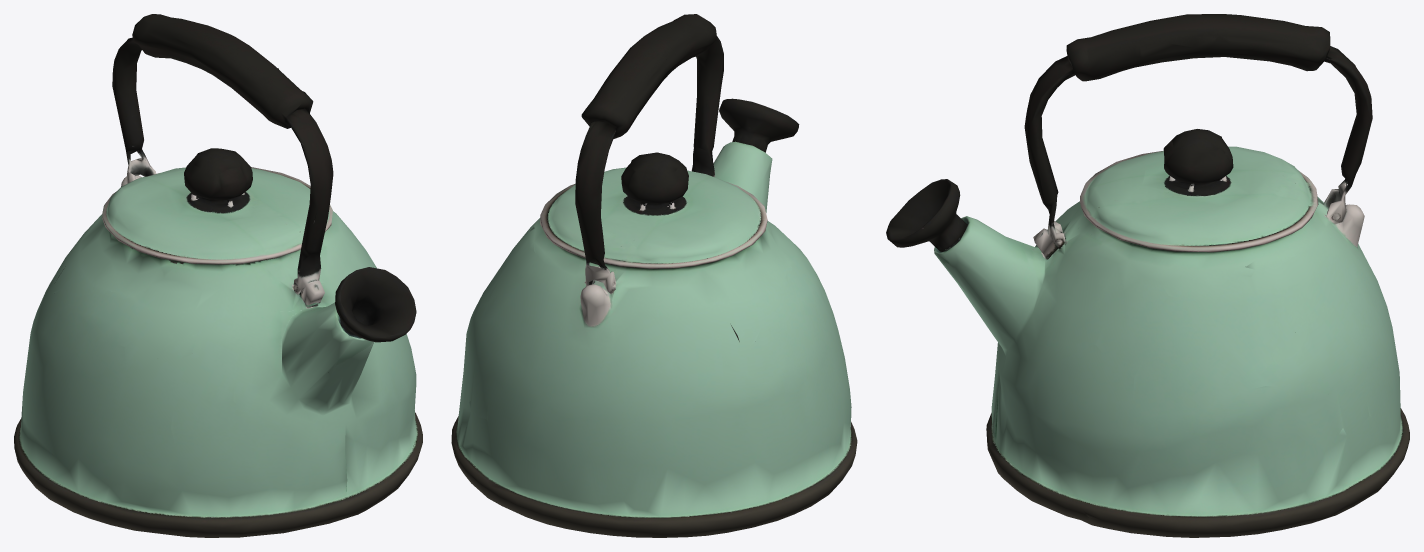
File: kettle.glb
The picture shows the model from 3 angles, left to right: view 1: azimuth 30°, elevation 25°; view 2: azimuth 150°, elevation 25°; view 3: azimuth 270°, elevation 25°; orthographic projection. The views are drawn at different scales.
Visible parts, largest first — view 1: kettle; view 2: kettle; view 3: kettle.
Boxes of the visible parts, box(x1,y1,x2,y2) form: kettle: box(14, 14, 422, 537); kettle: box(451, 14, 857, 537); kettle: box(886, 14, 1409, 537).
Size of the model in its own units: 0.2251 by 0.2499 by 0.2736.
1 material, 1 textured.
